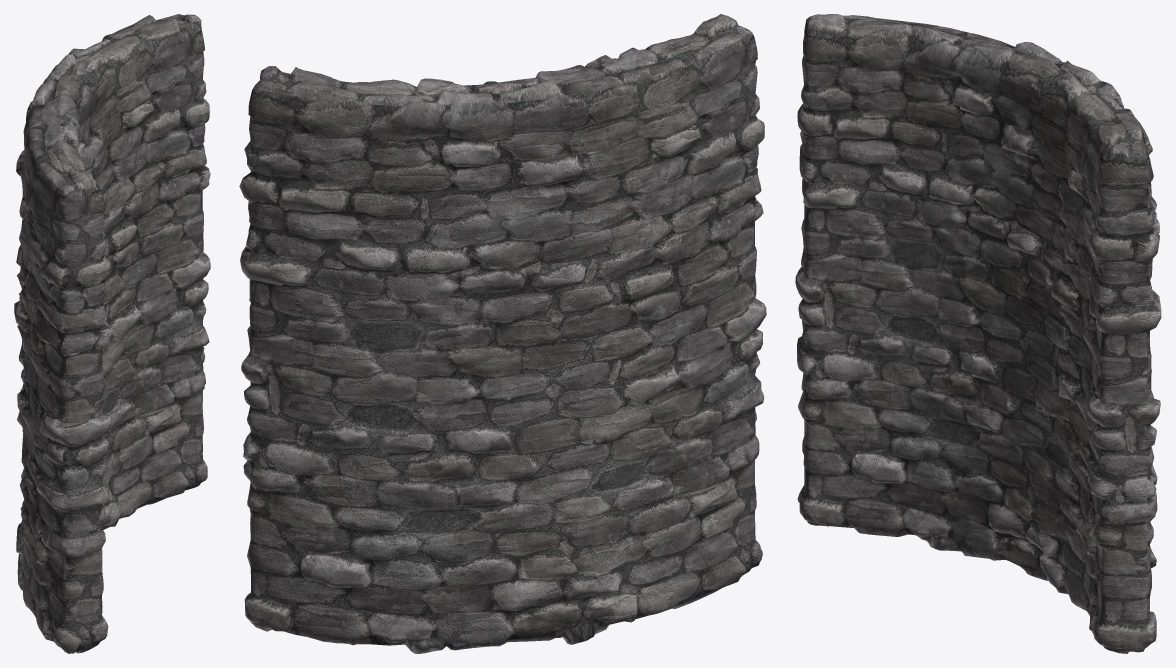
Rendered from SM_MWallCorner.FBX.
3 views of the same model, side by side, from view 1: azimuth 30°, elevation 25°; view 2: azimuth 150°, elevation 25°; view 3: azimuth 270°, elevation 25° (orthographic). The views are drawn at different scales.
Parts seen in each view (by area): view 1: SM_MWallCorner_LOD0; view 2: SM_MWallCorner_LOD0; view 3: SM_MWallCorner_LOD0.
Boxes of the visible parts, box(x1,y1,x2,y2) form: SM_MWallCorner_LOD0: box(14, 14, 210, 653); SM_MWallCorner_LOD0: box(239, 14, 766, 653); SM_MWallCorner_LOD0: box(795, 14, 1161, 653).
Size of what is drawn, in the model's own units: 228 by 357 by 228.
